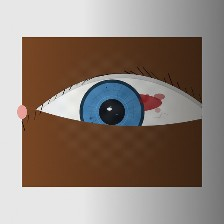hemorrhage_spot: (75, 63, 176, 143)
